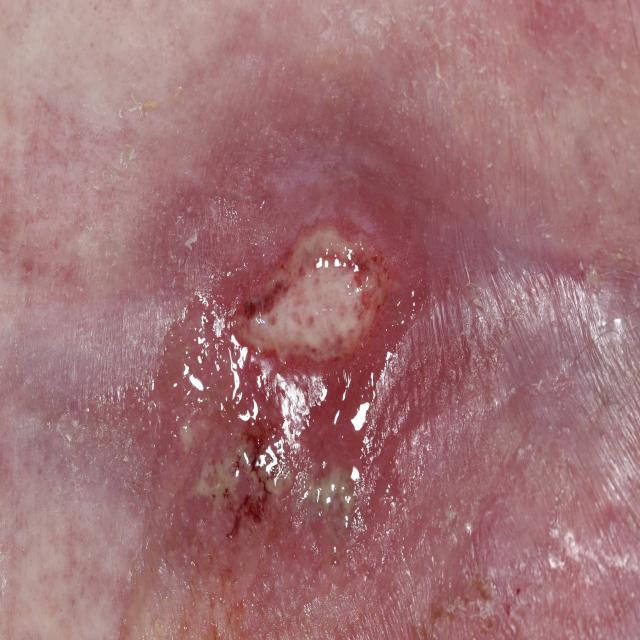wound: (165, 216, 392, 574)
